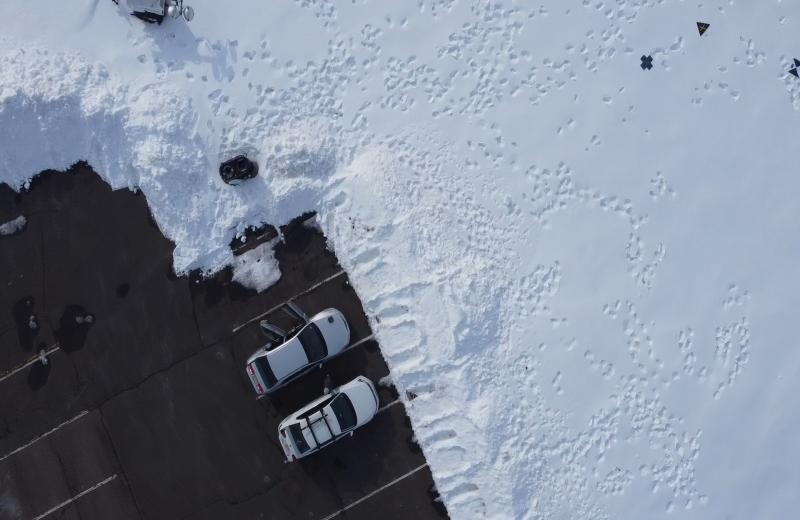Cross: (637, 54, 656, 72)
Triangle: (695, 20, 711, 38)
